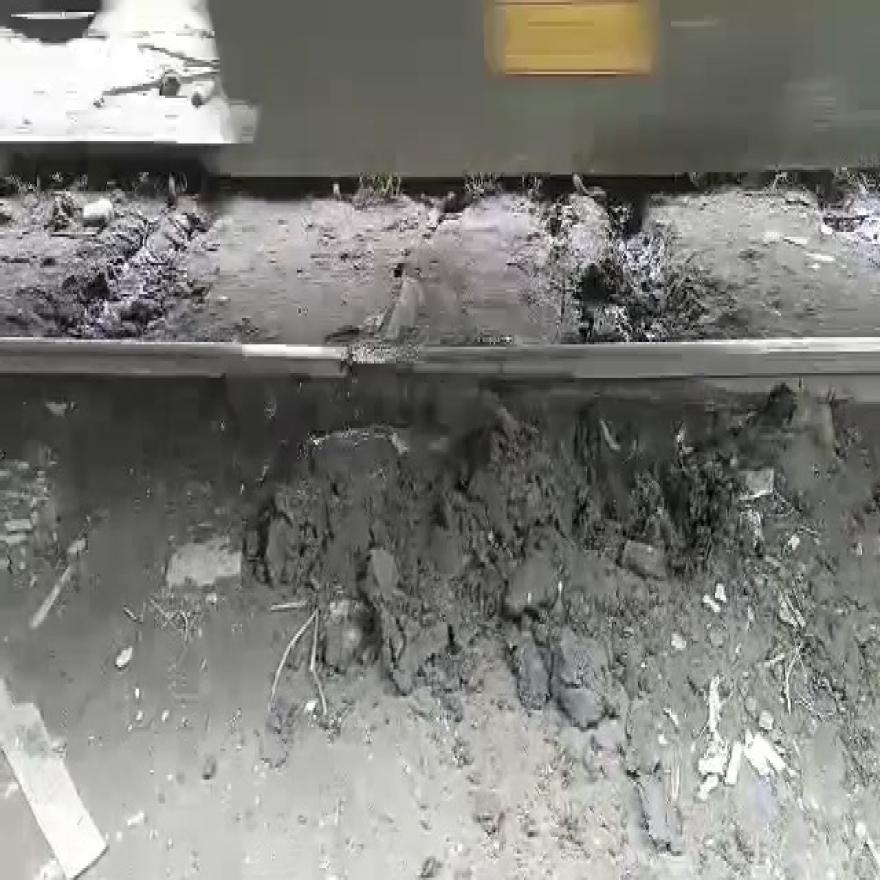railway-gap: (295, 277, 403, 460)
